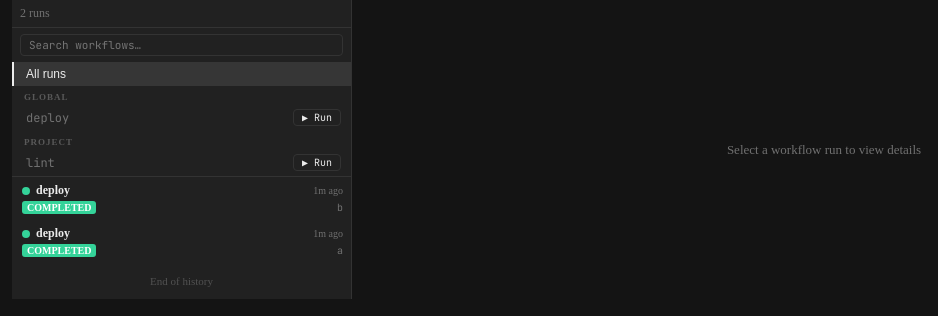
Test: WorkflowsLayoutPanel › filters runs to the selected workflow
expect the text "2 runs" is shown: met, box [20,6,50,20]
Click the element with test id "workflow-def-lint" at (40, 162), box [12,149,351,176]
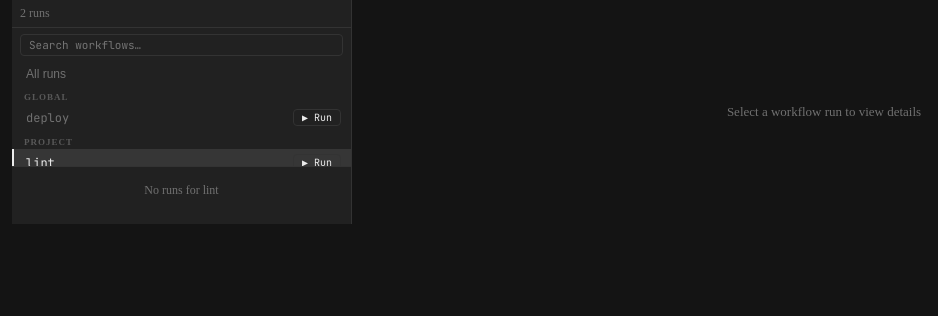
expect the text "No runs for lint" is shown: met, box [144,183,219,197]
expect the text "End of history" is gone: met
